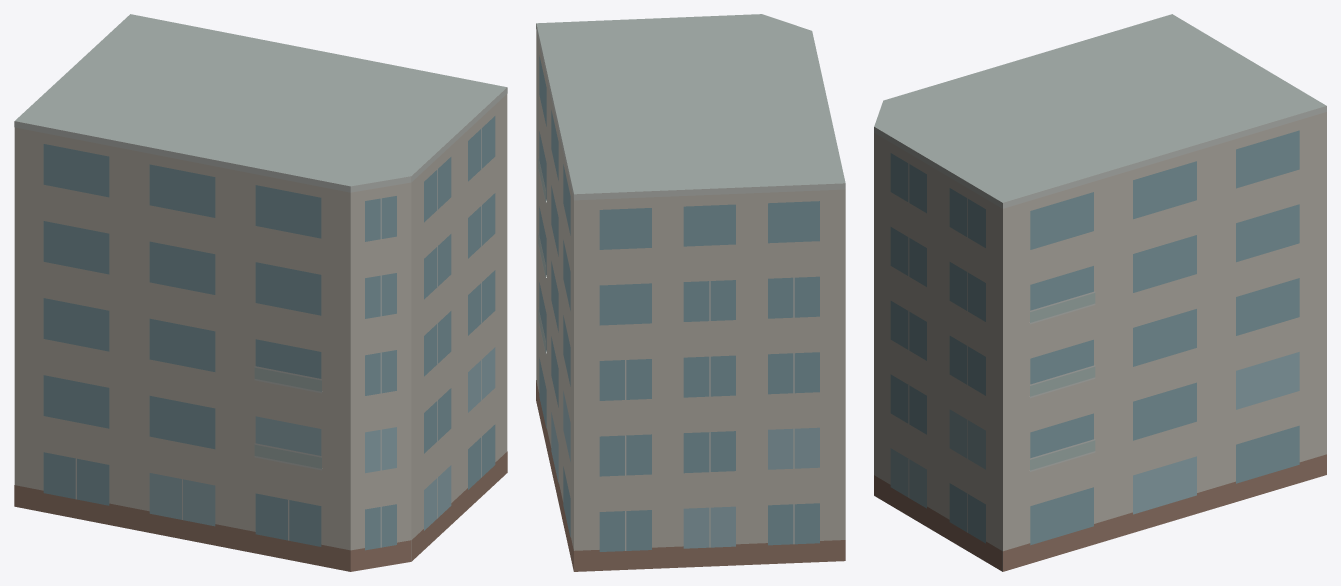
File: survey-upis-32719403.glb
3 views of the same model, side by side, from view 1: azimuth 30°, elevation 25°; view 2: azimuth 150°, elevation 25°; view 3: azimuth 270°, elevation 25° (orthographic). The views are drawn at different scales.
Parts seen in each view (by area): view 1: survey-upis-32719403.tmp; view 2: survey-upis-32719403.tmp; view 3: survey-upis-32719403.tmp.
Part boxes in pixels (x1,y1,x2,y2): survey-upis-32719403.tmp: (14,14,507,571); survey-upis-32719403.tmp: (536,14,845,571); survey-upis-32719403.tmp: (874,14,1326,571).
Size of the model in its own units: 16.53 by 15.05 by 16.74.
